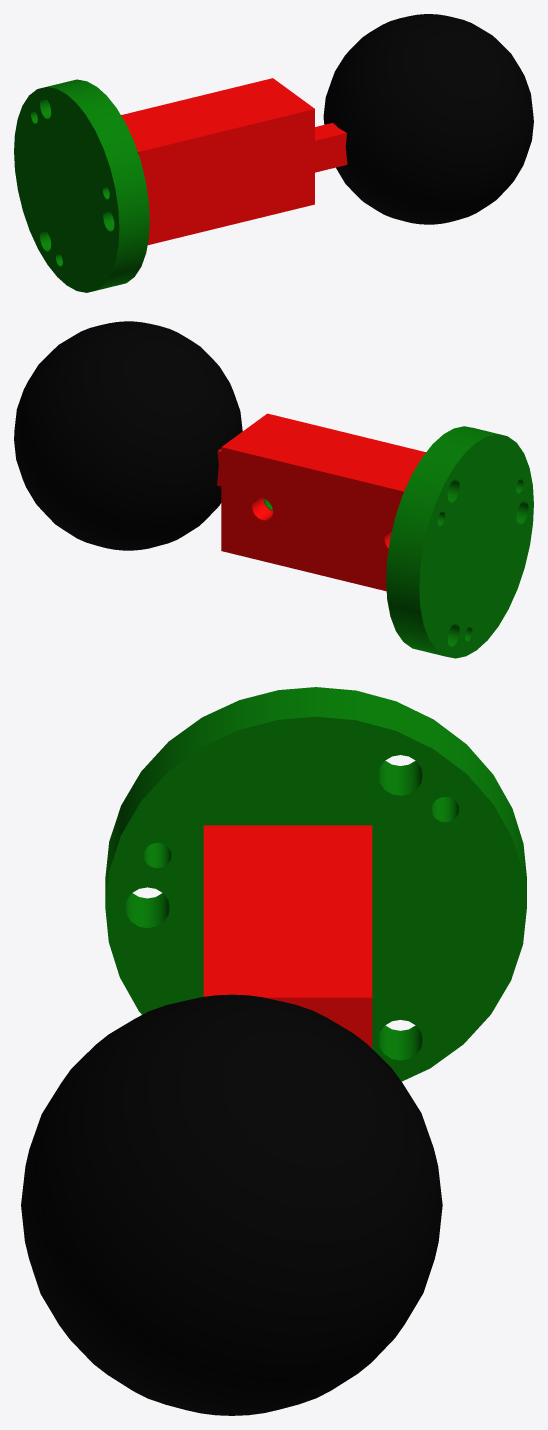
Rendered from Finger_design.obj.
The picture shows the model from 3 angles, top to bottom: view 1: azimuth 30°, elevation 25°; view 2: azimuth 150°, elevation 25°; view 3: azimuth 270°, elevation 25°; orthographic projection. The views are drawn at different scales.
Size of the model in its own units: 0.071 by 0.0304 by 0.036.
